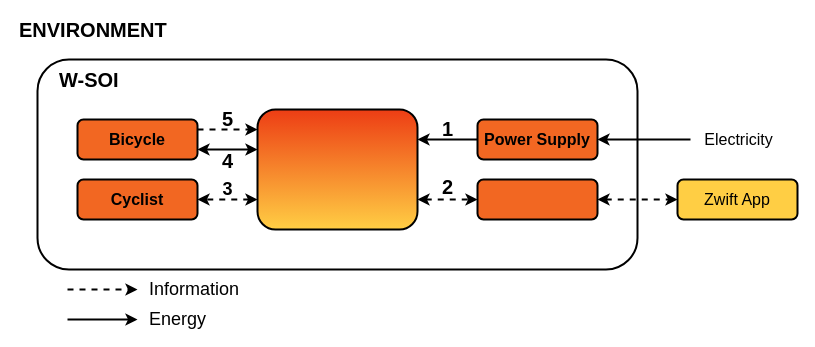
The diagram is 815 pixels wide and 347 high, and some of its shapes have lost their labels. The shapes that lost their labels are listed below. From the top down, each one's centre as x and y in pixels, then its label:
At (x=337, y=169): "N-SOI".
At (x=537, y=199): "Zwift Device".
